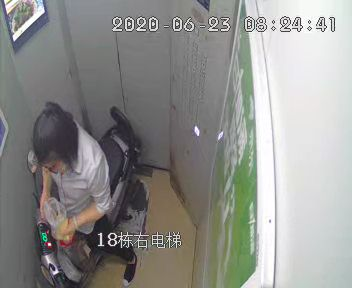Electric-bicycle: (38, 106, 132, 288)
